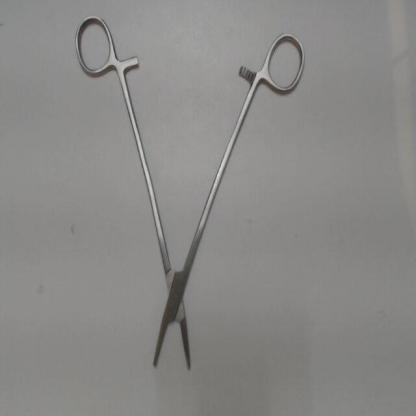8 Mayo Needle Holder: (68, 6, 312, 389)
